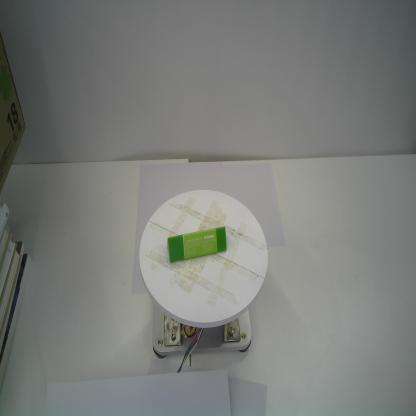Stationery: (166, 222, 228, 266)
